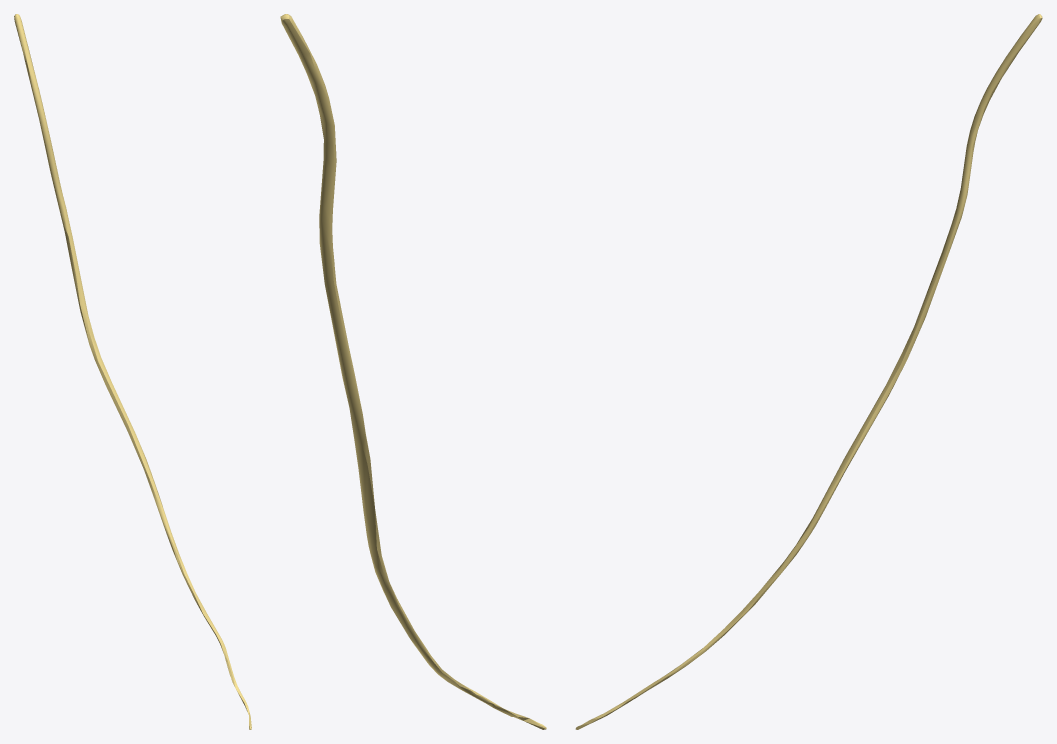
Rendered from fma44867_fj4285.glb.
The picture shows the model from 3 angles, left to right: view 1: azimuth 30°, elevation 25°; view 2: azimuth 150°, elevation 25°; view 3: azimuth 270°, elevation 25°; orthographic projection. The views are drawn at different scales.
Visible parts, largest first — view 1: FMA44867_FJ4285; view 2: FMA44867_FJ4285; view 3: FMA44867_FJ4285.
Part boxes in pixels (left/top/right/bottom): FMA44867_FJ4285: left=14, top=14, right=251, bottom=729; FMA44867_FJ4285: left=280, top=14, right=546, bottom=729; FMA44867_FJ4285: left=575, top=14, right=1042, bottom=729.
Size of the model in its own units: 0.0103 by 0.1008 by 0.0616.
